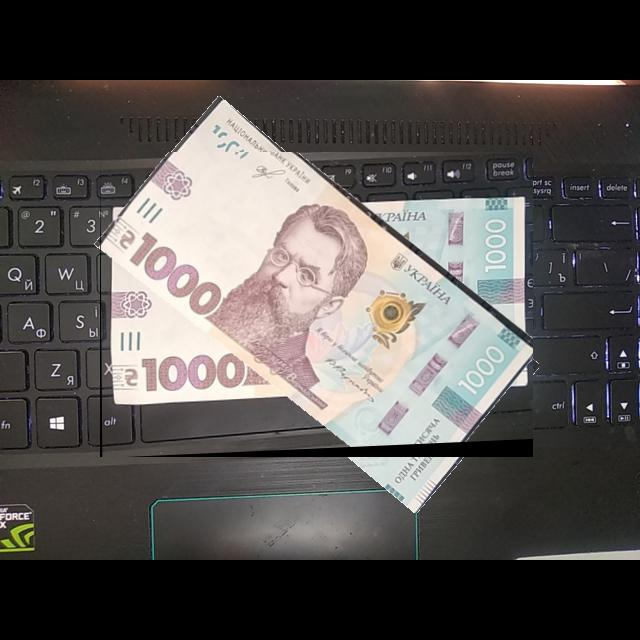1000uah: (100, 152, 534, 458)
